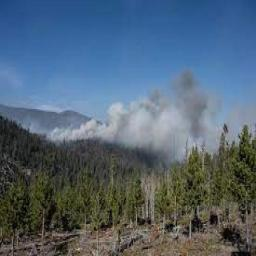Heavy smoke: (54, 84, 256, 146)
